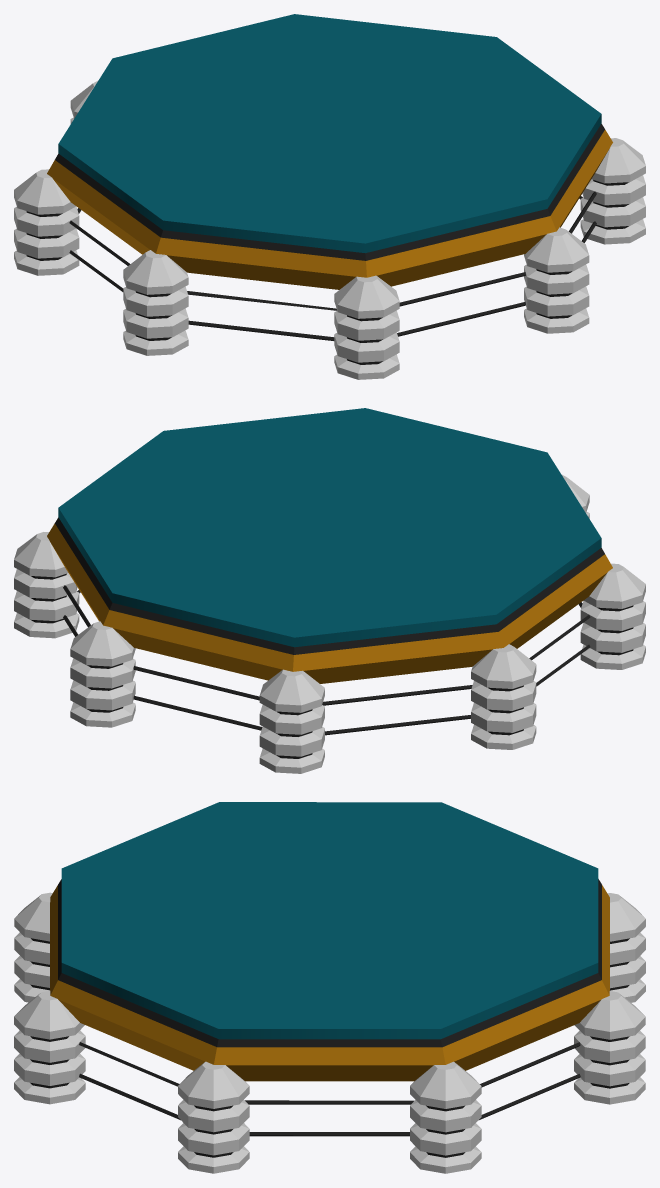
The model's file is transporterBridge.FBX.
3 views of the same model, one above another, from view 1: azimuth 30°, elevation 25°; view 2: azimuth 150°, elevation 25°; view 3: azimuth 270°, elevation 25° (orthographic). The views are drawn at different scales.
Parts seen in each view (by area): view 1: transporterBridge, jet_01, jet_02, jet_08, jet_03, jet_07, powerUnit; view 2: transporterBridge, jet_04, jet_03, jet_05, jet_02, jet_06, powerUnit; view 3: transporterBridge, jet_07, jet_06, jet_05, jet_08, powerUnit, jet_04, jet_01.
Part boxes in pixels (bbox=[...]): transporterBridge: bbox=[47, 14, 612, 289]; jet_01: bbox=[334, 275, 399, 379]; jet_02: bbox=[123, 250, 188, 355]; jet_08: bbox=[524, 227, 589, 333]; jet_03: bbox=[14, 169, 79, 275]; jet_07: bbox=[580, 138, 645, 244]; powerUnit: bbox=[69, 191, 596, 340]; transporterBridge: bbox=[47, 408, 612, 683]; jet_04: bbox=[259, 669, 324, 773]; jet_03: bbox=[471, 644, 536, 749]; jet_05: bbox=[70, 621, 135, 727]; jet_02: bbox=[580, 563, 645, 669]; jet_06: bbox=[14, 532, 79, 638]; powerUnit: bbox=[63, 585, 590, 735]; transporterBridge: bbox=[50, 802, 609, 1081]; jet_07: bbox=[178, 1061, 249, 1173]; jet_06: bbox=[410, 1061, 481, 1173]; jet_05: bbox=[574, 991, 645, 1104]; jet_08: bbox=[14, 990, 85, 1104]; powerUnit: bbox=[79, 1042, 580, 1136]; jet_04: bbox=[607, 893, 645, 1002]; jet_01: bbox=[14, 892, 52, 1002].
Size of what is drawn, in the model's own units: 544 by 122 by 544.
